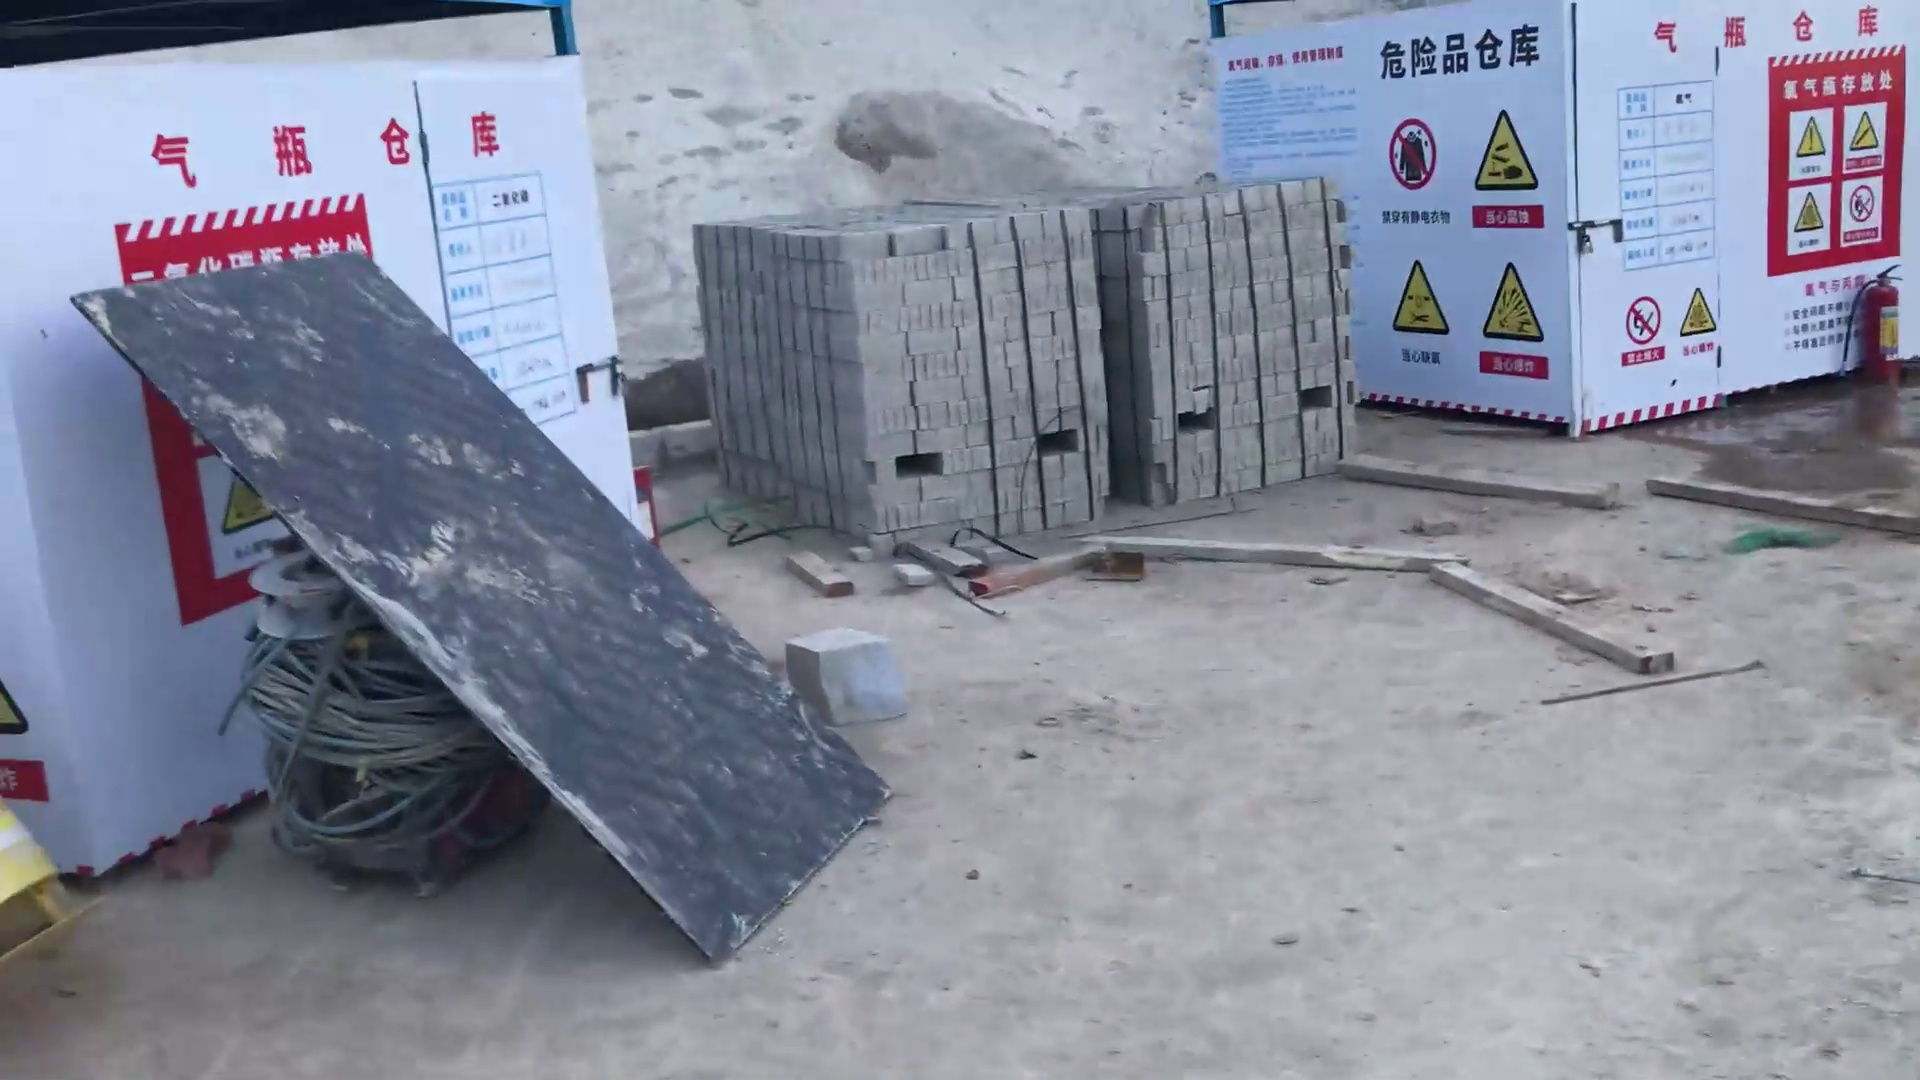board: (75, 265, 913, 968)
brick: (663, 167, 1412, 522)
slogan: (1371, 22, 1619, 423), (1755, 38, 1904, 268), (1588, 266, 1733, 381)
